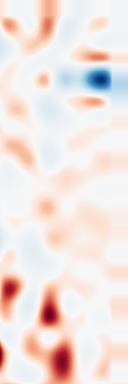filament: (20, 281, 82, 383)
